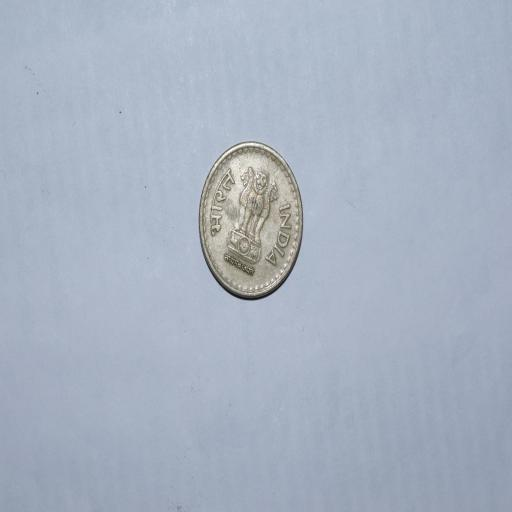rupee5: (194, 140, 304, 303)
